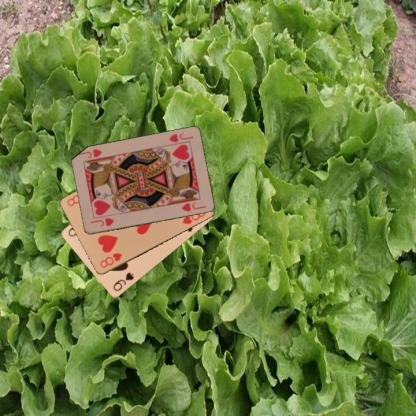8h: (97, 250, 123, 269)
9s: (110, 270, 136, 292)
Jh: (166, 130, 194, 144), (88, 215, 115, 228)
